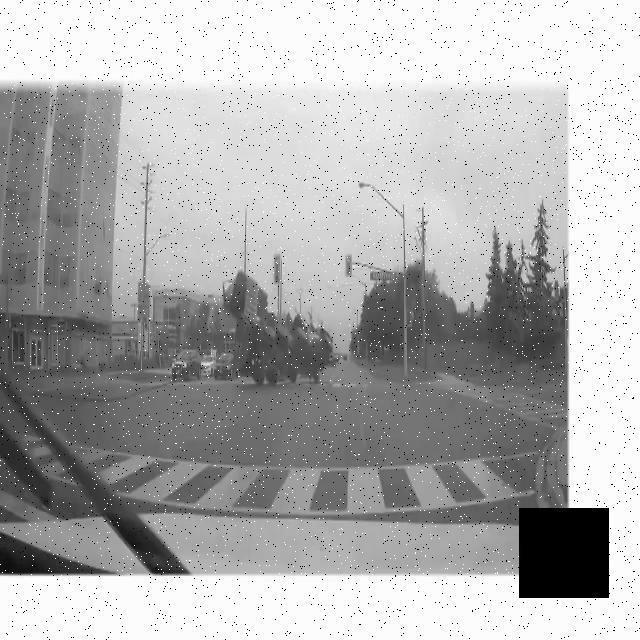accident: (223, 270, 336, 390)
vehicle: (168, 348, 202, 387), (204, 353, 216, 378)
